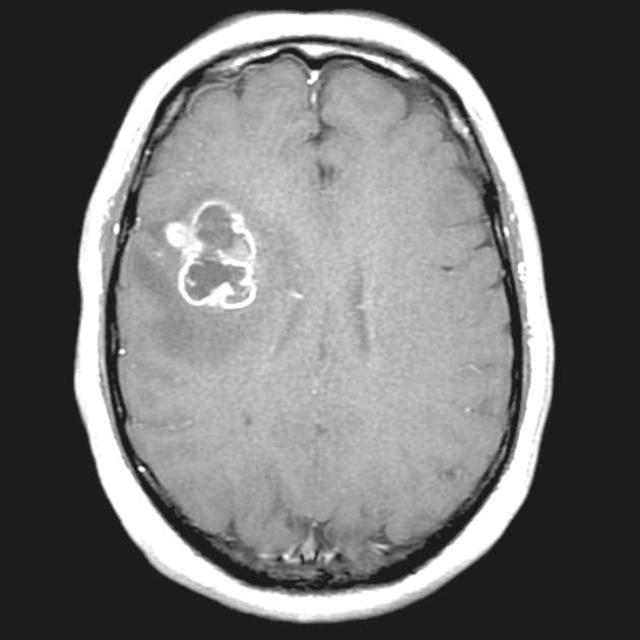Tumor-Cell: (155, 198, 261, 322)
